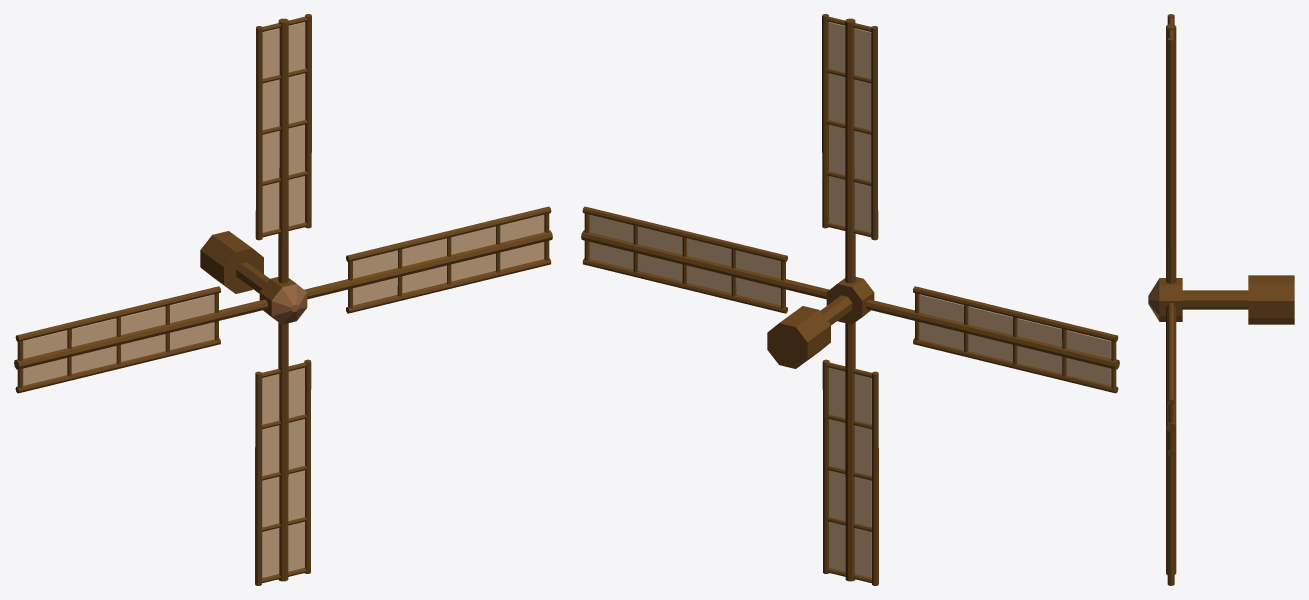
File: MillPart_02.fbx
3 views of the same model, side by side, from view 1: azimuth 30°, elevation 25°; view 2: azimuth 150°, elevation 25°; view 3: azimuth 270°, elevation 25° (orthographic). The views are drawn at different scales.
Visible parts, largest first — view 1: MillPart_02; view 2: MillPart_02; view 3: MillPart_02.
Boxes of the visible parts, x1,y1,x2,y2 form: MillPart_02: (14, 14, 552, 585); MillPart_02: (581, 14, 1119, 585); MillPart_02: (1148, 14, 1294, 585).
Size of the model in its own units: 734 by 734 by 178.
